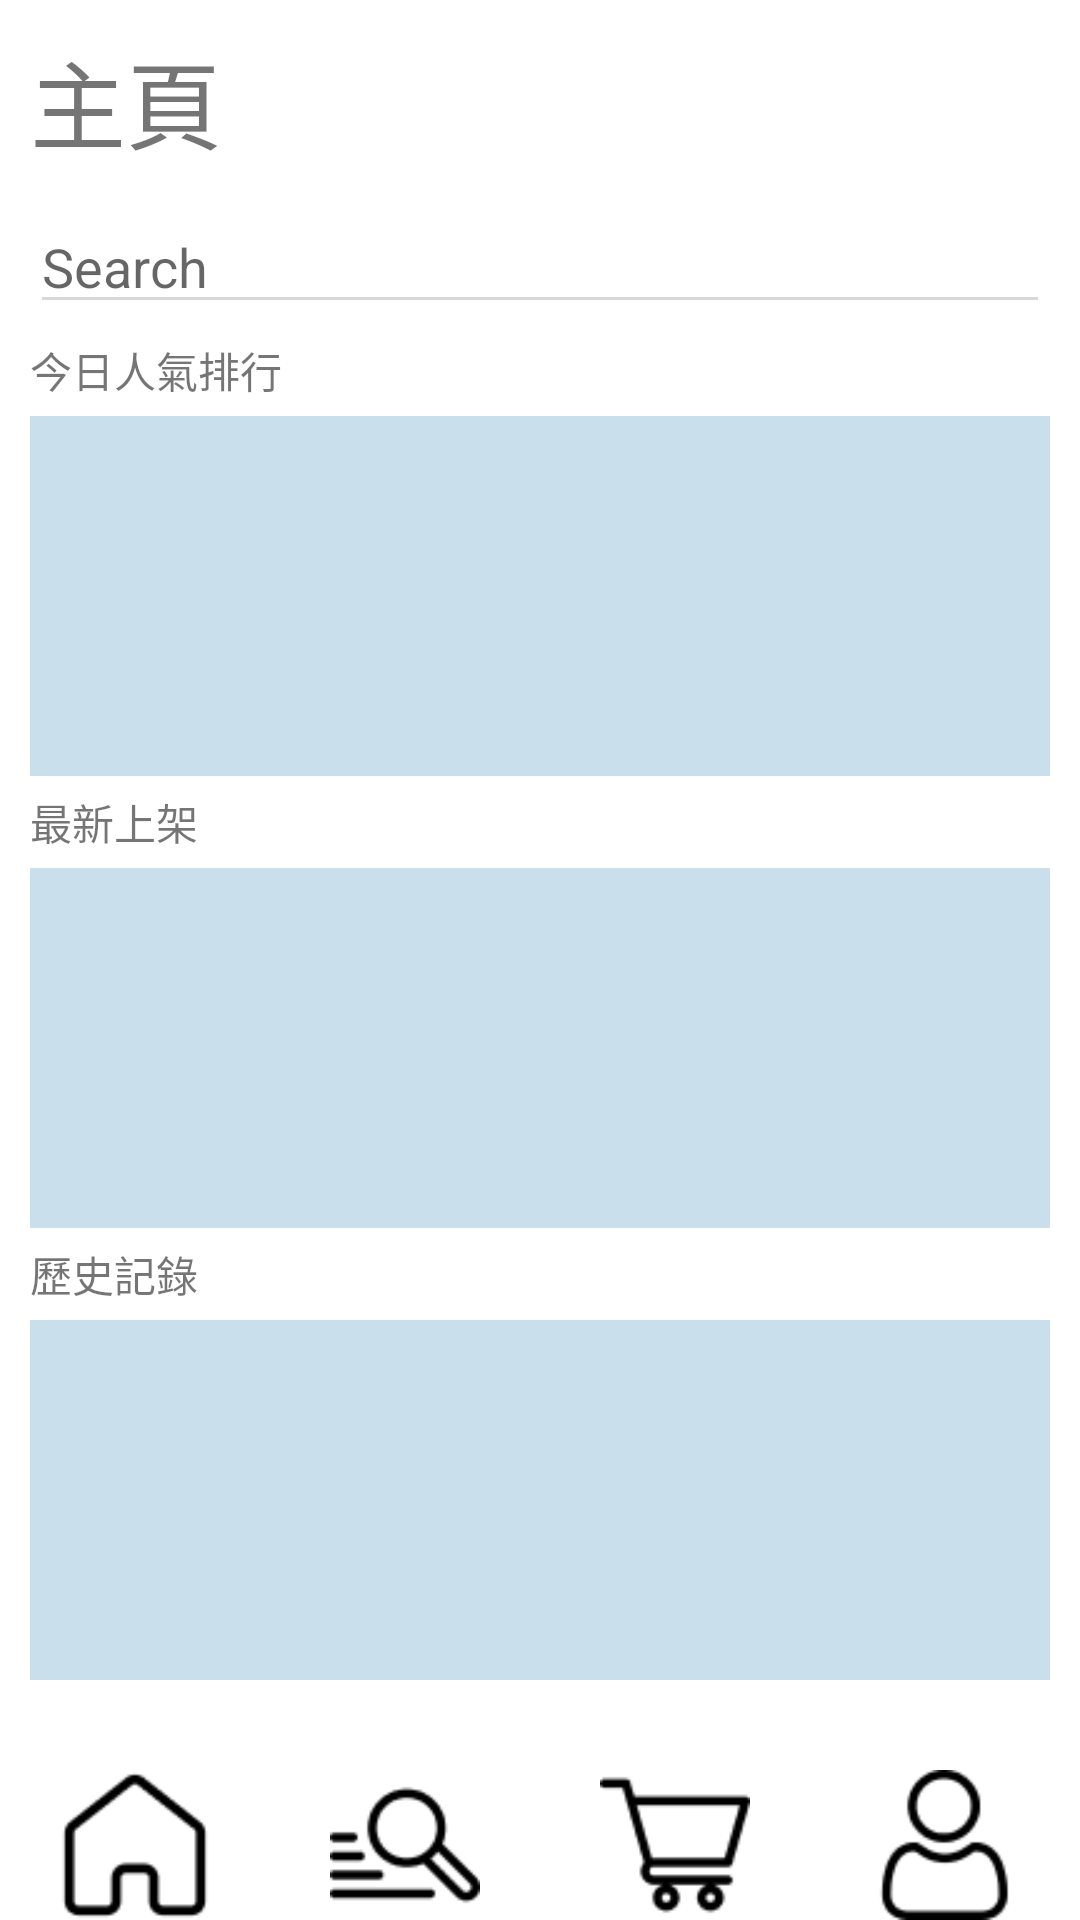

Named icons in this screenshot (1080px×1920px) and their bounding boxes, bbox=(x1, y1, x2, y2):
account: bbox=(881, 1770, 1009, 1920)
cart: bbox=(600, 1777, 750, 1913)
home: bbox=(63, 1774, 207, 1917)
search: bbox=(330, 1787, 480, 1903)
